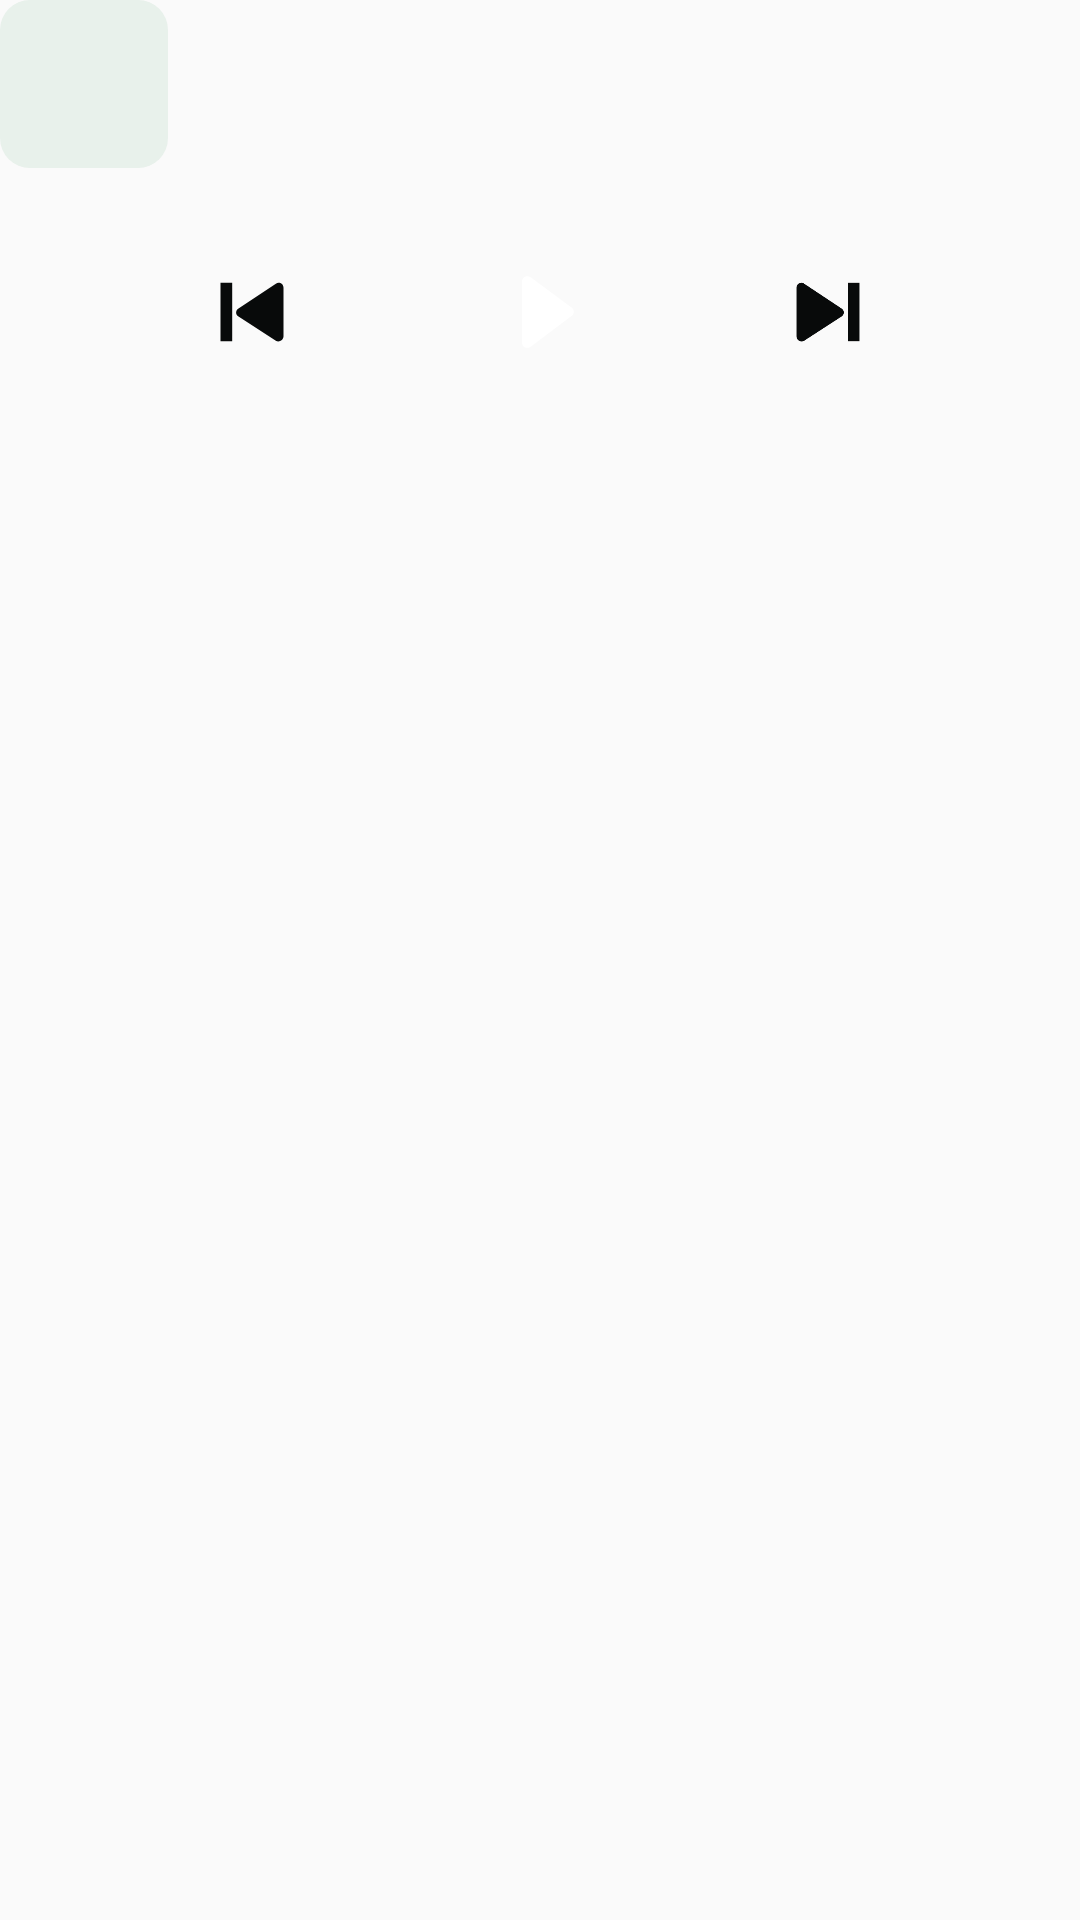

Locate icon controls on the screen. Image size 1080 × 1920, boxes as box=[x1, y1, x2, y2].
Next track: box=[796, 282, 860, 342]
Previous track: box=[220, 282, 284, 342]
